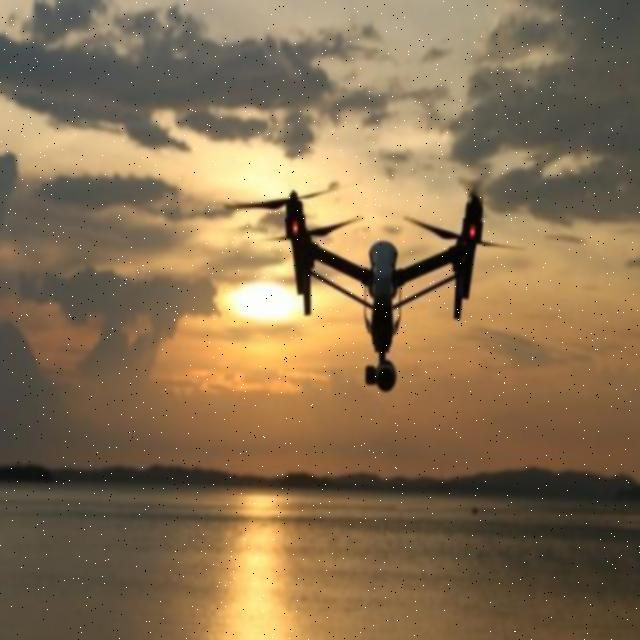UAV: (282, 188, 486, 394)
